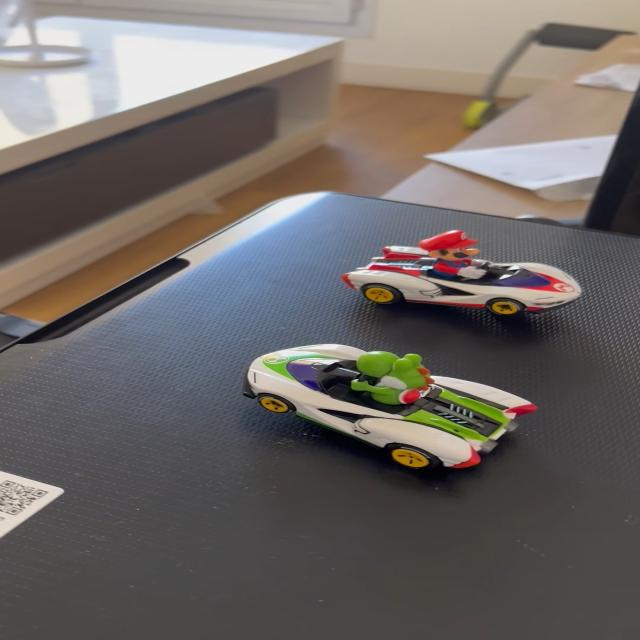mario: (343, 229, 595, 318)
yoshi: (229, 337, 560, 480)
